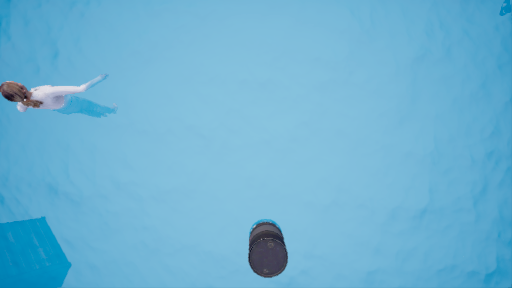person: (5, 73, 123, 124)
